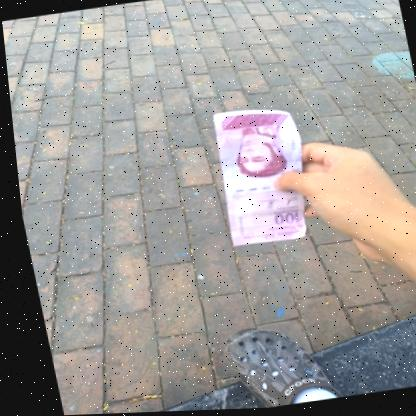one_hundred-front-vef: (200, 103, 316, 249)
